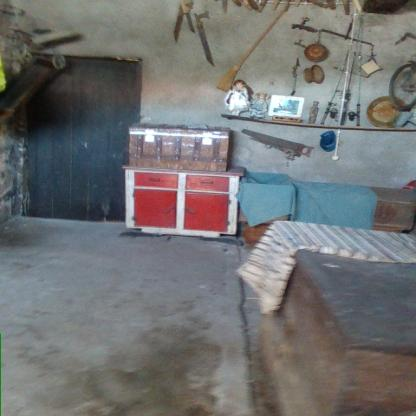closed: (21, 51, 162, 229)
